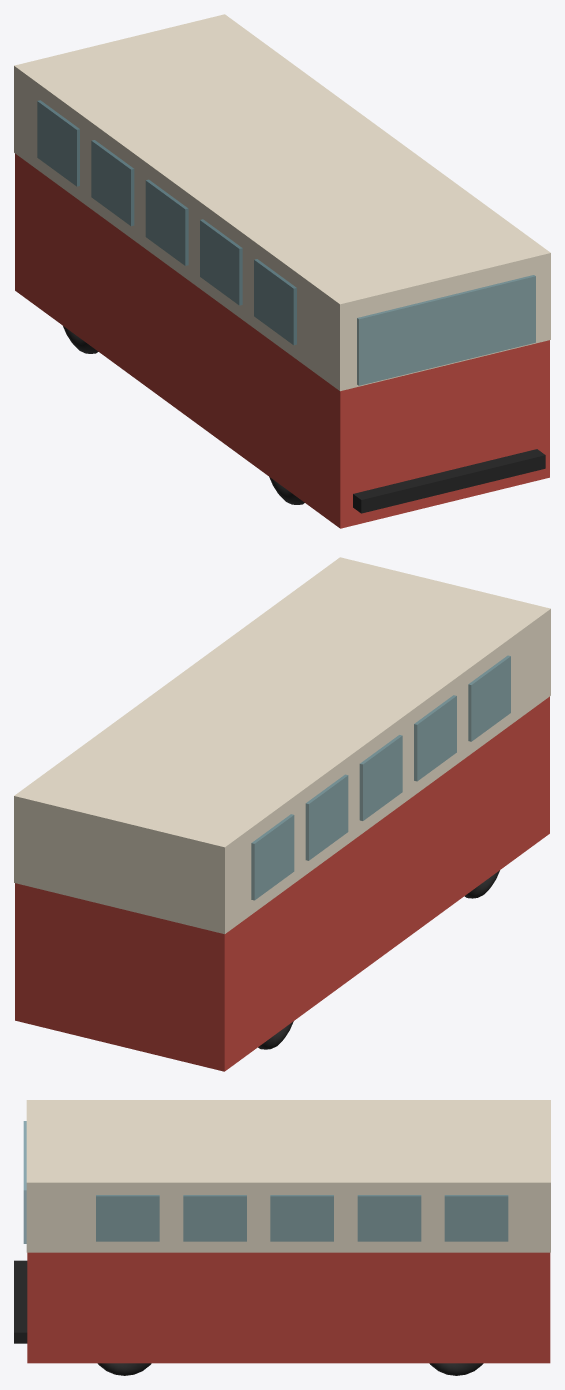
Rendered from ksrtc-bus.glb.
3 renders of one model, top to bottom at view 1: azimuth 30°, elevation 25°; view 2: azimuth 150°, elevation 25°; view 3: azimuth 270°, elevation 25°, orthographic. The views are drawn at different scales.
Visible parts, largest first — view 1: upper, body, window (×5), frontGlass, bumper; view 2: upper, body, window (×5); view 3: upper, body, window (×5), bumper, wheel (×2), frontGlass.
Boxes of the visible parts, x1,y1,x2,y2 form: upper: [14, 14, 550, 391]; body: [15, 153, 549, 528]; window (×5): [37, 100, 296, 345]; frontGlass: [357, 275, 535, 385]; bumper: [353, 449, 545, 513]; upper: [14, 557, 550, 934]; body: [15, 696, 549, 1071]; window (×5): [251, 655, 510, 900]; upper: [26, 1100, 550, 1252]; body: [27, 1252, 550, 1363]; window (×5): [96, 1195, 508, 1241]; bumper: [14, 1260, 27, 1343]; wheel (×2): [97, 1363, 483, 1375]; frontGlass: [23, 1121, 26, 1243].
Size of the model in its own units: 3.01 by 3.24 by 8.01.
